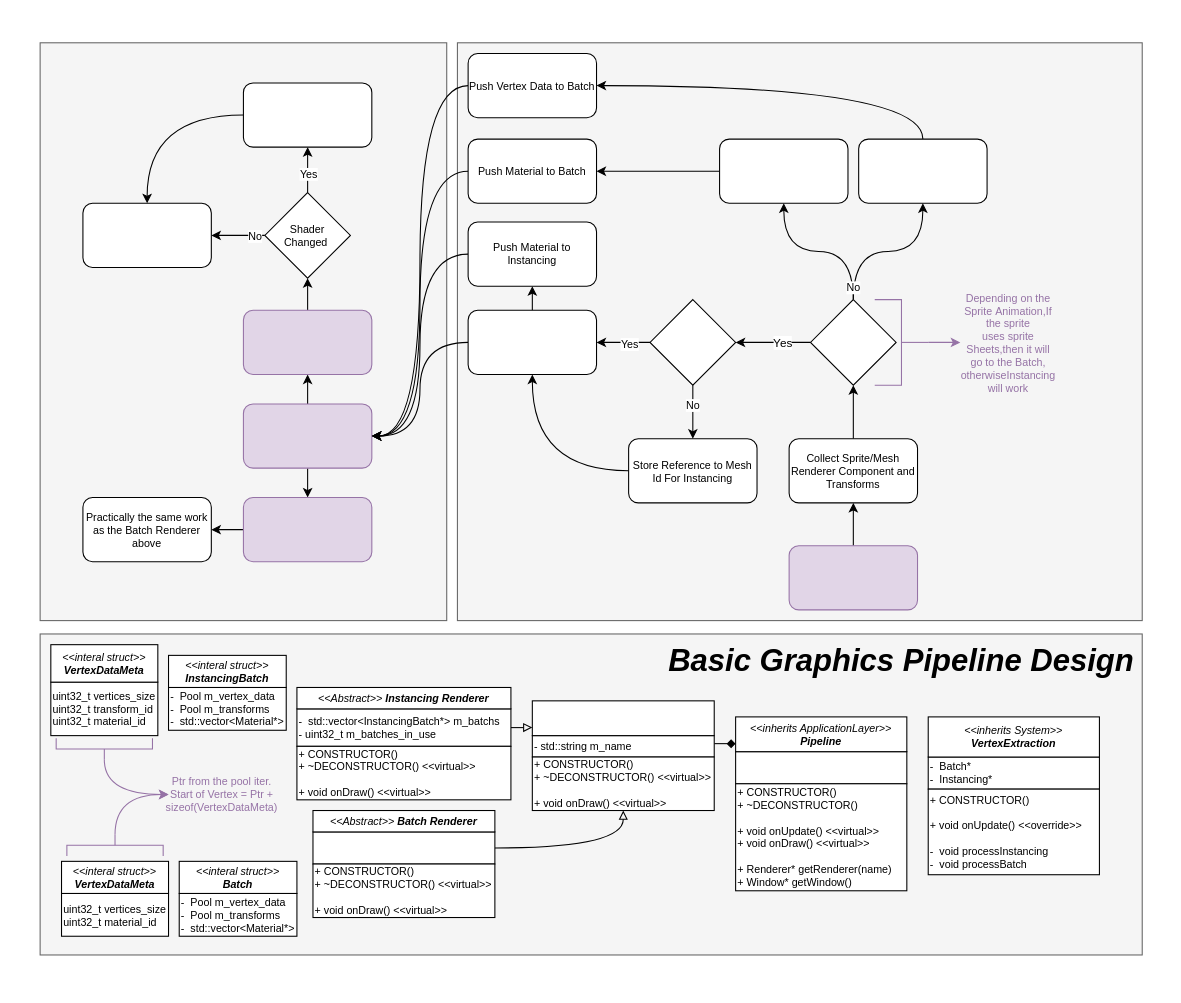
The diagram is 1181 pixels wide and 1003 high, and some of its shapes have lost their labels. The centre of each missing label's shape, as x and y in pixels:
"!Anim Comp" belongs at point (852, 342).
"- std::vector<Batch*> m_batchs - uint32_t m_batches_in_use" belongs at point (403, 847).
"- Window - std::vector<Renderer*>" belongs at point (821, 767).
"<<Abstract>> Renderer" belongs at point (622, 718).
"Batch Renderer" belongs at point (307, 341).
"Create a new Batch" belongs at point (307, 114).
"Extract Material Data" belongs at point (783, 170).
"Extract Vertex Data" belongs at point (922, 170).
"Graphics Pipeline" belongs at point (307, 435).
"Instancing Renderer" belongs at point (307, 529).
"Push Data into Correct Buffers" belongs at point (146, 235).
"Push Mesh Id to Instancing" belongs at point (532, 341).
"Stored Ref" belongs at point (692, 342).
"Vertex Extraction System" belongs at point (853, 577).
